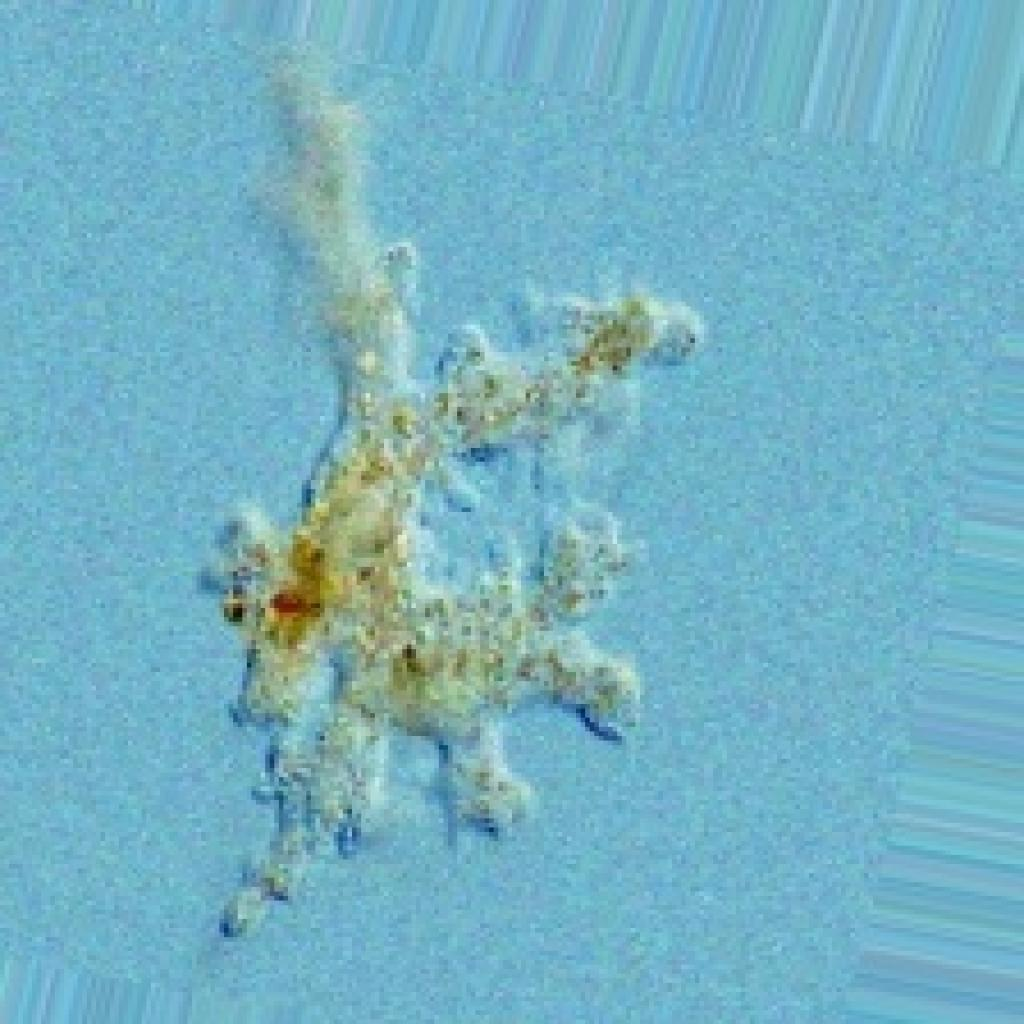Amoeba: (197, 41, 704, 937)
